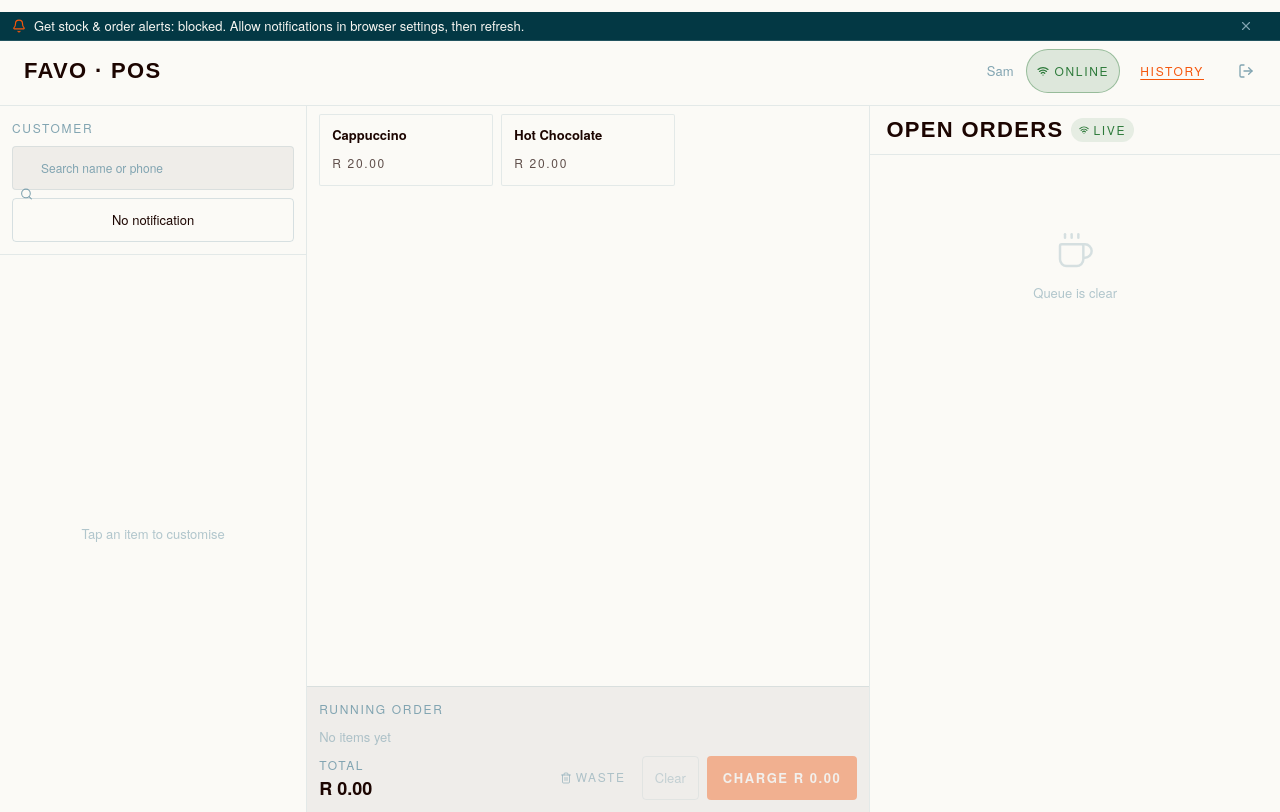
Test: AT-202 — shot picker (§6.2.3c, REQ-138, L48) › weekday: two segments, 1 and 2 — not four greyed ones
Click the button "Cappuccino R 20.00".
click(406, 150)  # box [319,114,493,186]
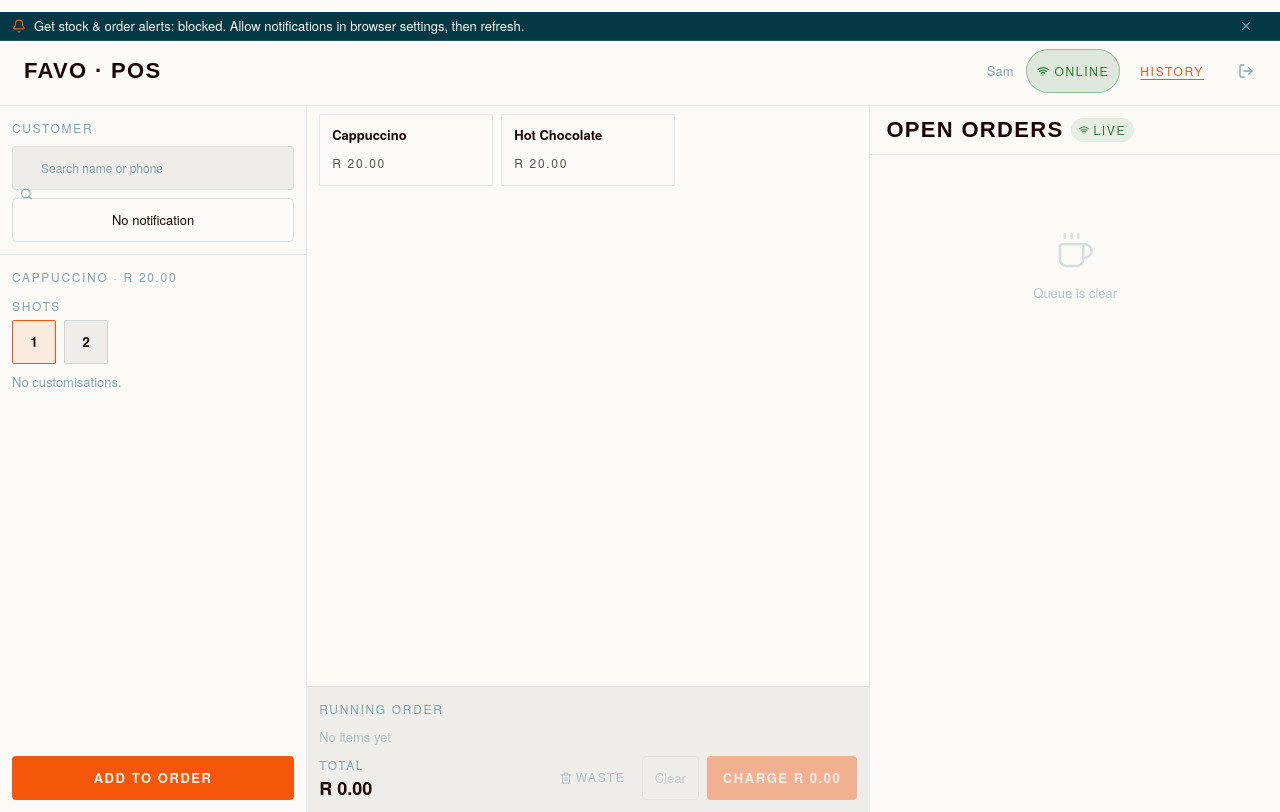
Result: the buttons read "1", "2", in this order at [12,320,56,364]; [64,320,108,364]
